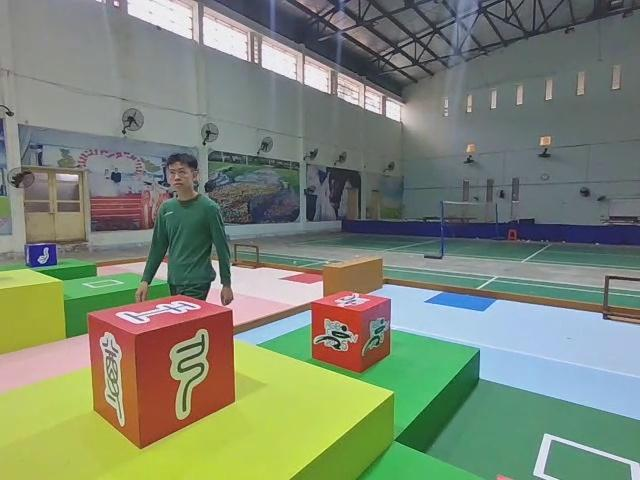R1: (307, 289, 395, 373)
R2 Fake: (79, 293, 244, 449)
